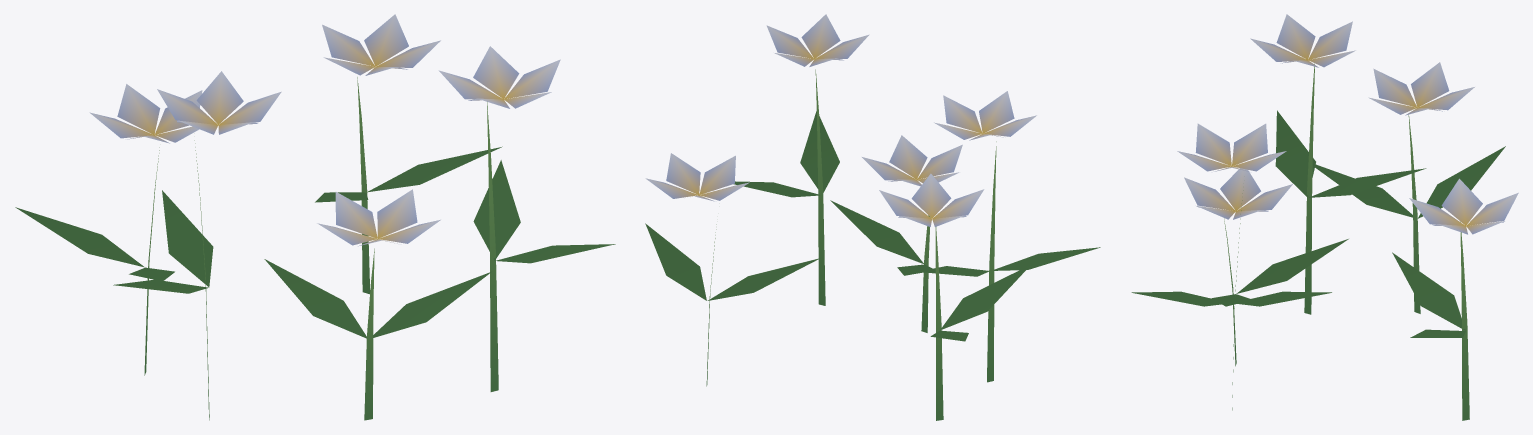
The model's file is flowers_blue.glb.
The picture shows the model from 3 angles, left to right: view 1: azimuth 30°, elevation 25°; view 2: azimuth 150°, elevation 25°; view 3: azimuth 270°, elevation 25°; orthographic projection. The views are drawn at different scales.
Parts seen in each view (by area): view 1: Flowers; view 2: Flowers; view 3: Flowers.
Part boxes in pixels (x1,y1,x2,y2): Flowers: (15,14,615,420); Flowers: (645,14,1100,420); Flowers: (1131,14,1518,420).
Size of the model in its own units: 1.02 by 0.6656 by 0.8351.
